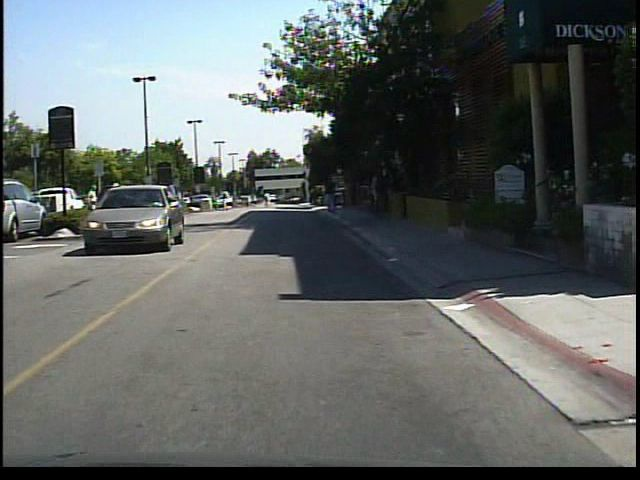person: (371, 163, 393, 224), (110, 178, 132, 230), (323, 171, 343, 219), (164, 175, 183, 222), (86, 183, 102, 226), (220, 188, 234, 214), (262, 191, 272, 211)
